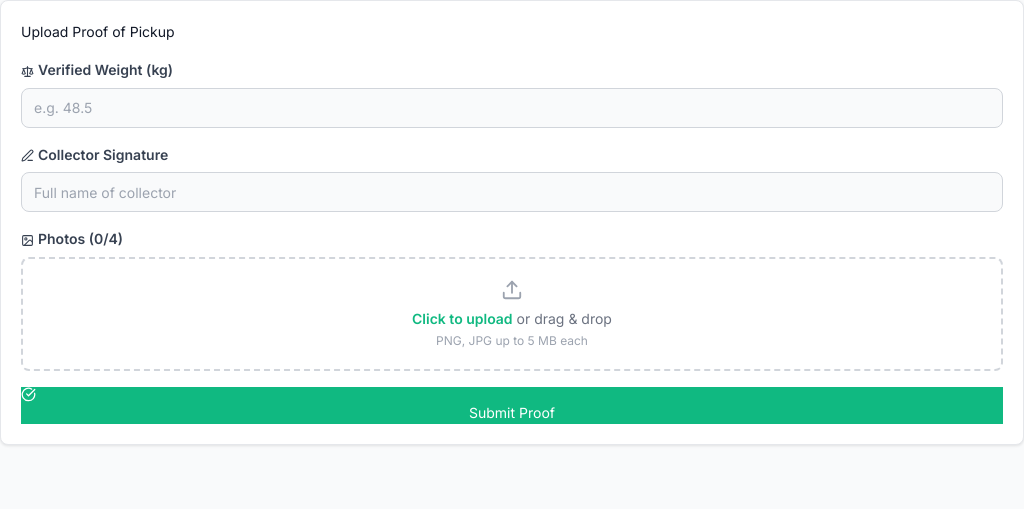
ProofUpload › shows validation error for missing weight on submit
What coordinates should you click on to do the following:
click the button "Submit Proof"
I would click on:
 (512, 405)
Its box is [21,387,1003,424].
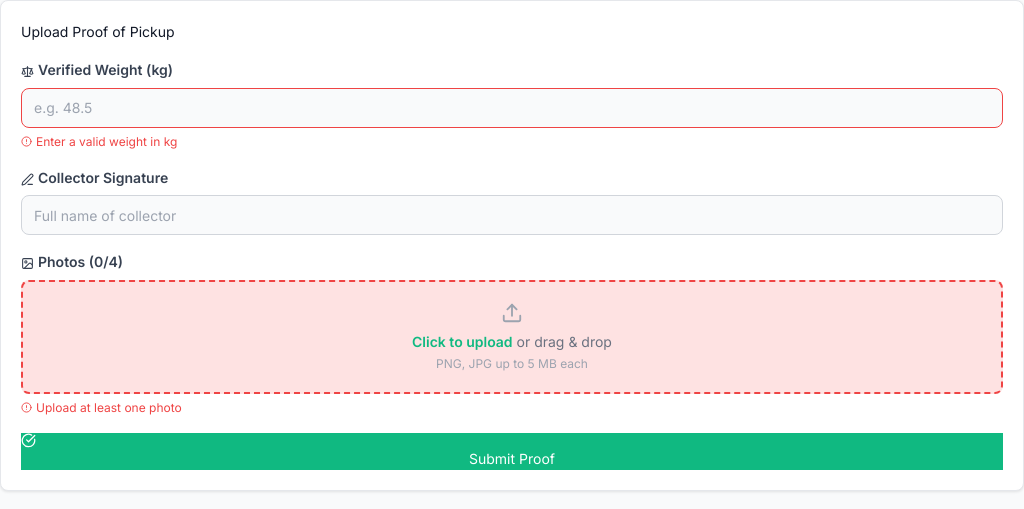
Check: the text "Enter a valid weight in kg" is shown, box [21,134,177,149]
